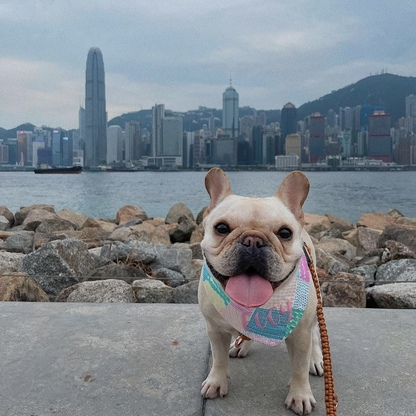bulldog: (192, 163, 330, 416)
